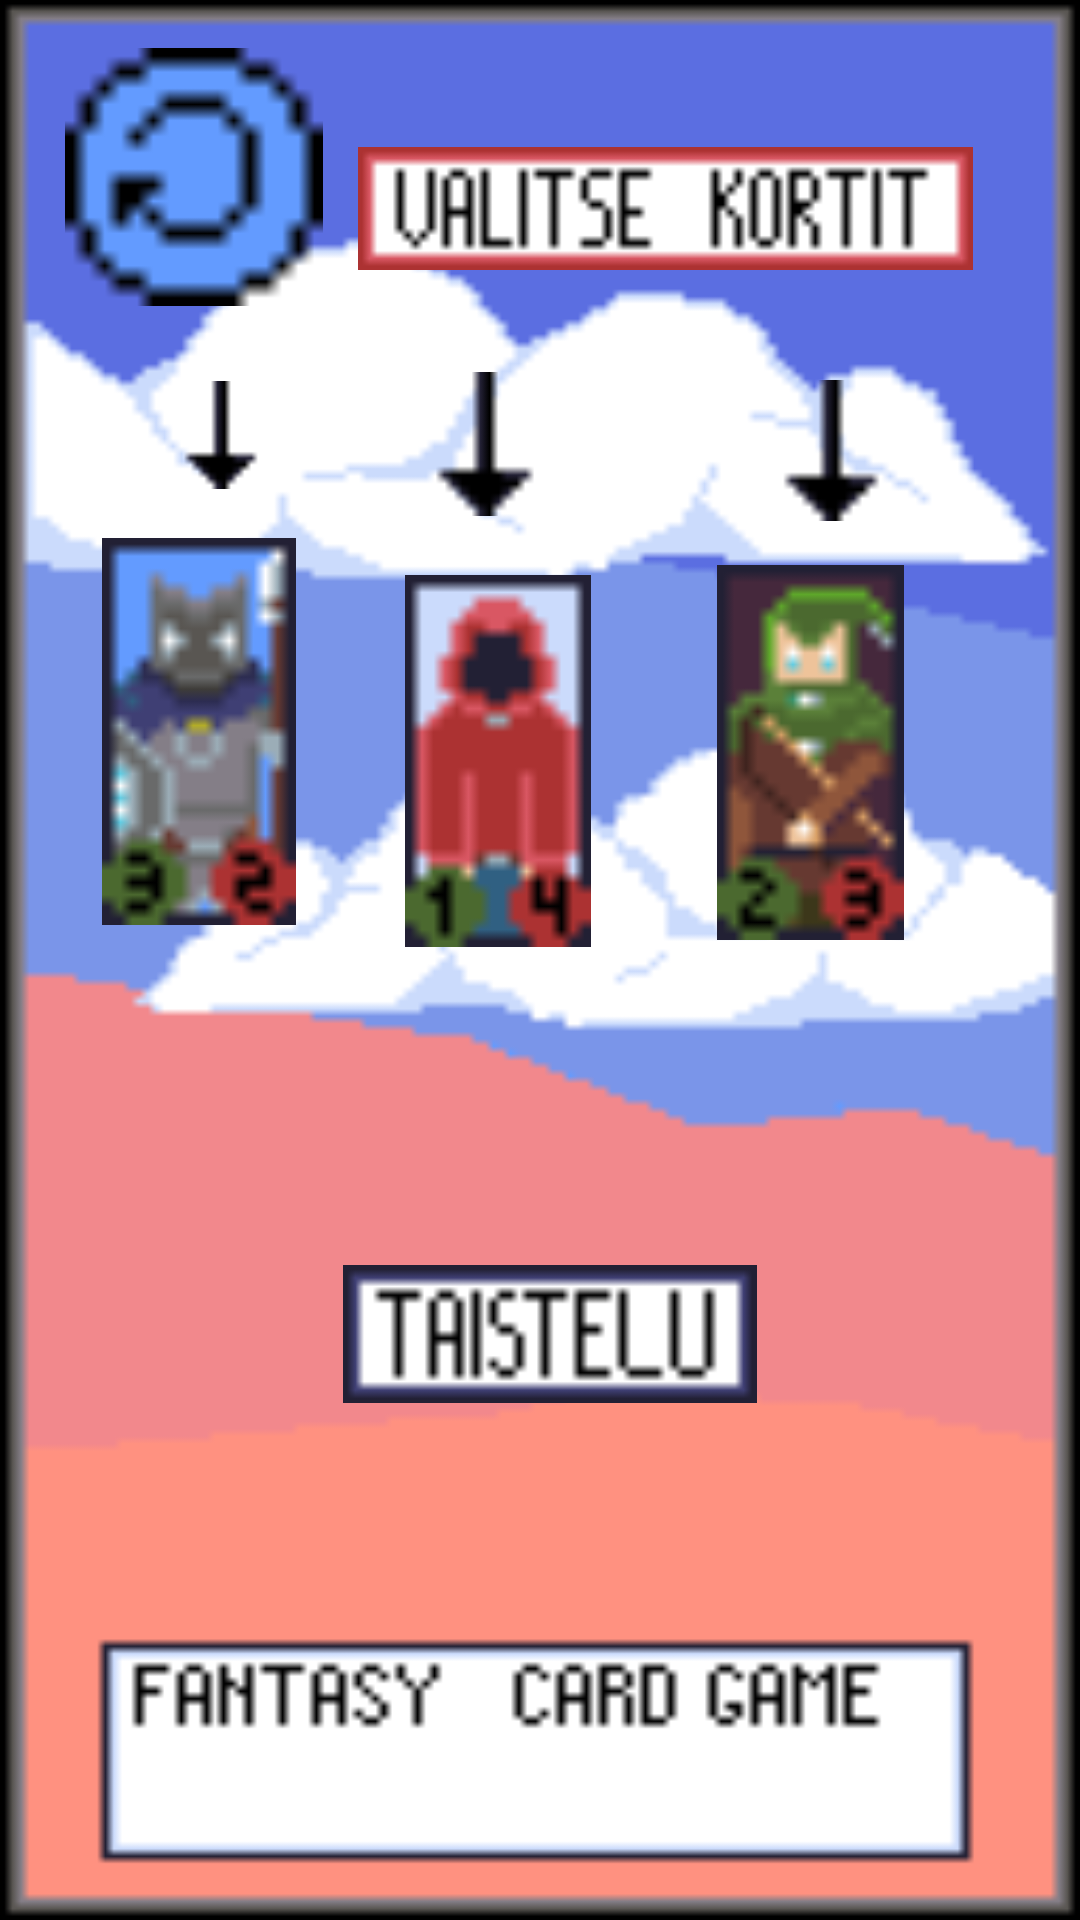

Screen size 1080px x 1920px. Icon name, then its center in pixels as point (x, y):
alasnuoli: point (474, 442), point (212, 423), point (831, 446)
